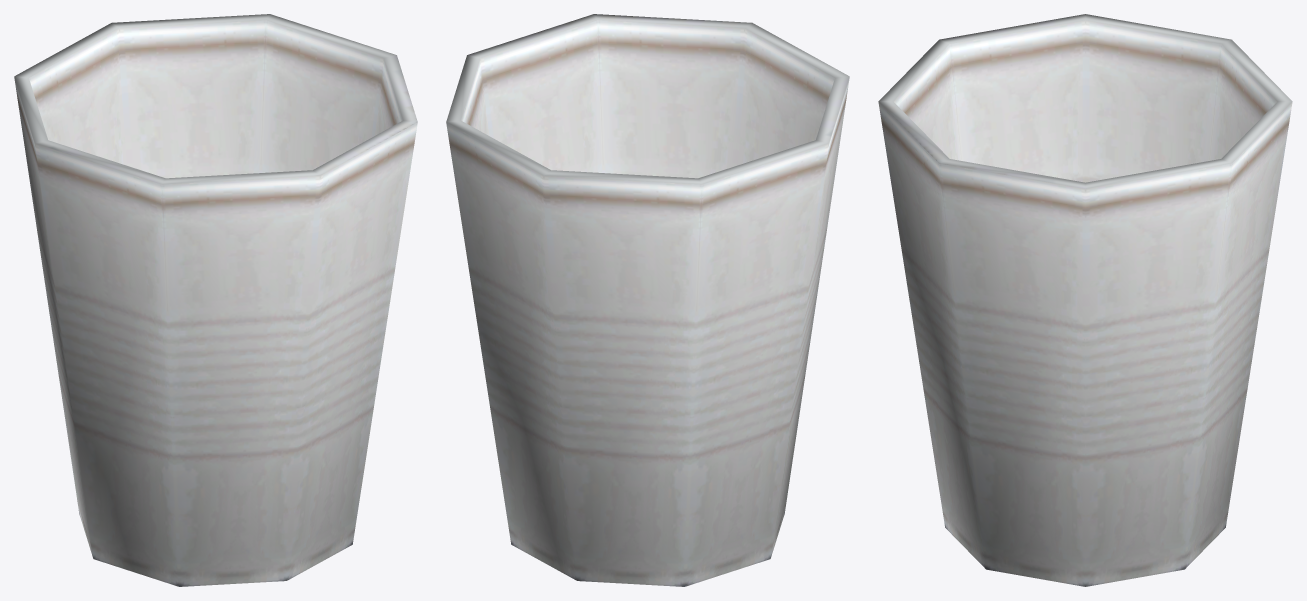
File: waterCup.FBX
The picture shows the model from 3 angles, left to right: view 1: azimuth 30°, elevation 25°; view 2: azimuth 150°, elevation 25°; view 3: azimuth 270°, elevation 25°; orthographic projection.
Parts seen in each view (by area): view 1: waterCup; view 2: waterCup; view 3: waterCup.
Boxes of the visible parts, x1,y1,x2,y2 form: waterCup: (14, 14, 417, 586); waterCup: (446, 14, 849, 586); waterCup: (878, 14, 1292, 586).
Bounding box in the file's own units: 6.54 × 7.43 × 6.54.
